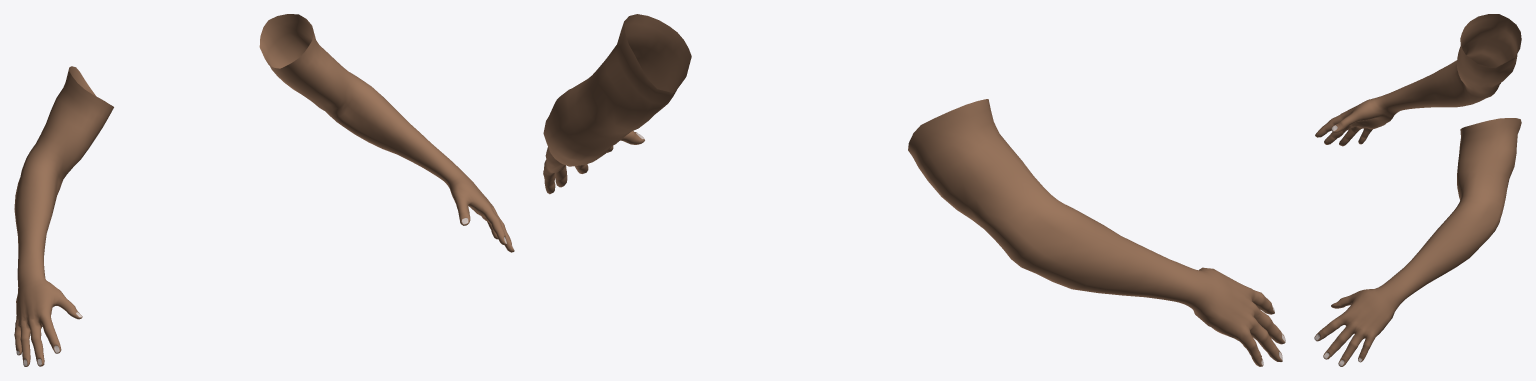
The model's file is HandsTest2.obj.
The picture shows the model from 3 angles, left to right: view 1: azimuth 30°, elevation 25°; view 2: azimuth 150°, elevation 25°; view 3: azimuth 270°, elevation 25°; orthographic projection. The views are drawn at different scales.
Parts seen in each view (by area): view 1: basicRig:Body; view 2: basicRig:Body; view 3: basicRig:Body.
Part boxes in pixels (x1,y1,x2,y2): basicRig:Body: [14, 14, 514, 366]; basicRig:Body: [543, 14, 1285, 366]; basicRig:Body: [1314, 14, 1521, 366].
Bounding box in the file's own units: 11.17 × 4.46 × 4.41.
